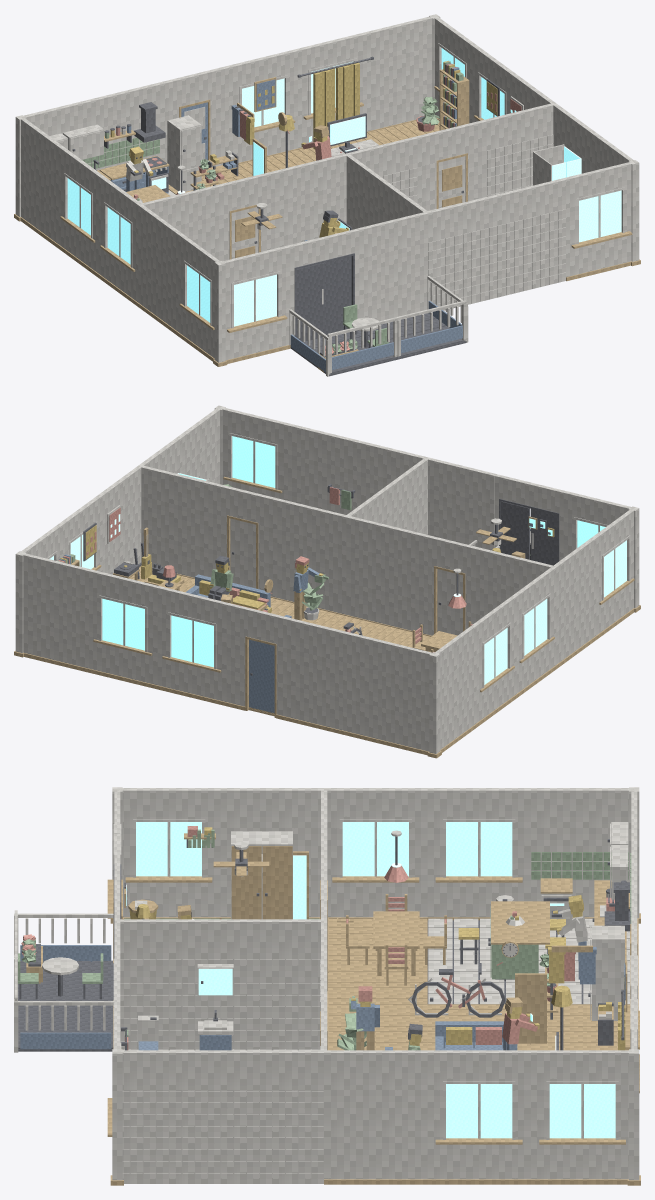
The model's file is pixel-flat.glb.
The picture shows the model from 3 angles, top to bottom: view 1: azimuth 30°, elevation 25°; view 2: azimuth 150°, elevation 25°; view 3: azimuth 270°, elevation 25°; orthographic projection. The views are drawn at different scales.
Parts seen in each view (by area): view 1: 040-bathroom-wall-bay/0, 038-wall-bay-plain/0, 039-bathroom-wall-bay/0, 035-wall-bay-plain/0, 058-wall-bay-plain/0, 041-wall-bay-window/0, 061-bathroom-wall-bay/0, 036-wall-bay-window/0, 045-wall-bay-plain/0, 033-wall-bay-window/0, 060-interior-door-bay/0, 042-kitchen-wall-bay/0 (+54 smaller); view 2: 031-kitchen-wall-bay/0, 058-wall-bay-plain/0, 035-wall-bay-plain/0, 030-kitchen-wall-bay/0, 061-bathroom-wall-bay/0, 059-bathroom-wall-bay/0, 033-wall-bay-window/0, 034-wall-bay-window/0, 038-wall-bay-plain/0, 040-bathroom-wall-bay/0, 032-wall-bay-door/0, 060-interior-door-bay/0 (+39 smaller); view 3: 050-bathroom-wall-bay/0, 049-wall-bay-plain/0, 051-bathroom-wall-bay/0, 062-bathroom-wall-bay/0, 063-bathroom-wall-bay/0, 048-wall-bay-window/0, 047-wall-bay-window/0, 043-wall-bay-window/0, 044-wall-bay-window/0, 046-wall-bay-window/0, 042-kitchen-wall-bay/0, 045-wall-bay-plain/0 (+49 smaller).
Part boxes in pixels (x1,y1,x2,y2): 040-bathroom-wall-bay/0: (495, 178, 565, 297); 038-wall-bay-plain/0: (357, 212, 428, 321); 039-bathroom-wall-bay/0: (426, 195, 497, 310); 035-wall-bay-plain/0: (365, 15, 435, 131); 058-wall-bay-plain/0: (278, 153, 348, 247); 041-wall-bay-window/0: (564, 162, 631, 277); 061-bathroom-wall-bay/0: (484, 103, 554, 196); 036-wall-bay-window/0: (220, 245, 290, 360); 045-wall-bay-plain/0: (138, 204, 181, 331); 033-wall-bay-window/0: (227, 49, 297, 162); 060-interior-door-bay/0: (415, 120, 486, 210); 042-kitchen-wall-bay/0: (21, 118, 62, 243); 031-kitchen-wall-bay/0: (295, 620, 366, 735); 058-wall-bay-plain/0: (346, 516, 417, 630); 035-wall-bay-plain/0: (20, 552, 90, 668); 030-kitchen-wall-bay/0: (364, 637, 435, 751); 061-bathroom-wall-bay/0: (141, 465, 209, 577); 059-bathroom-wall-bay/0: (277, 499, 346, 614); 033-wall-bay-window/0: (157, 586, 228, 701); 034-wall-bay-window/0: (89, 569, 159, 685); 038-wall-bay-plain/0: (426, 457, 496, 550); 040-bathroom-wall-bay/0: (288, 423, 358, 514); 032-wall-bay-door/0: (226, 603, 297, 718); 060-interior-door-bay/0: (208, 482, 279, 597); 050-bathroom-wall-bay/0: (220, 1050, 323, 1183); 049-wall-bay-plain/0: (324, 1050, 427, 1179); 051-bathroom-wall-bay/0: (117, 1050, 220, 1183); 062-bathroom-wall-bay/0: (220, 919, 320, 1050); 063-bathroom-wall-bay/0: (120, 919, 220, 1050); 048-wall-bay-window/0: (427, 1050, 530, 1179); 047-wall-bay-window/0: (531, 1050, 634, 1179); 043-wall-bay-window/0: (427, 788, 530, 917); 044-wall-bay-window/0: (324, 788, 427, 917); 046-wall-bay-window/0: (117, 788, 220, 917); 042-kitchen-wall-bay/0: (531, 788, 633, 917); 045-wall-bay-plain/0: (220, 788, 323, 917).
Size of the model in its own units: 12.32 by 2.83 by 12.13.
8 materials, 8 textured.
